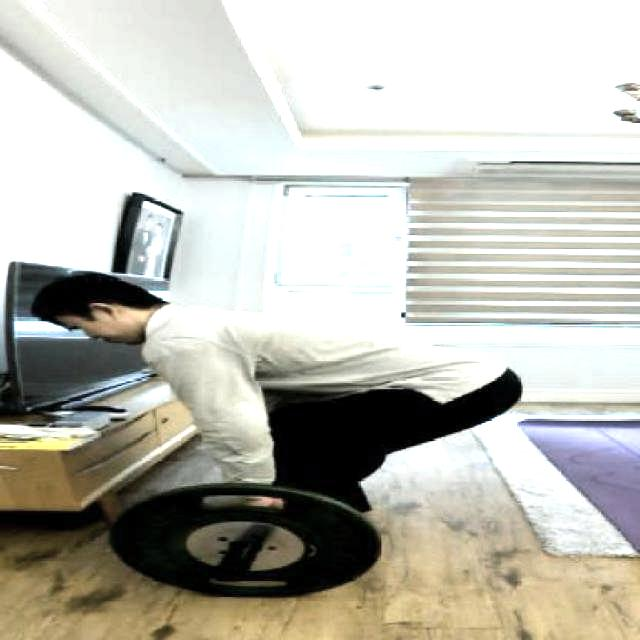barbell: (90, 475, 419, 609)
